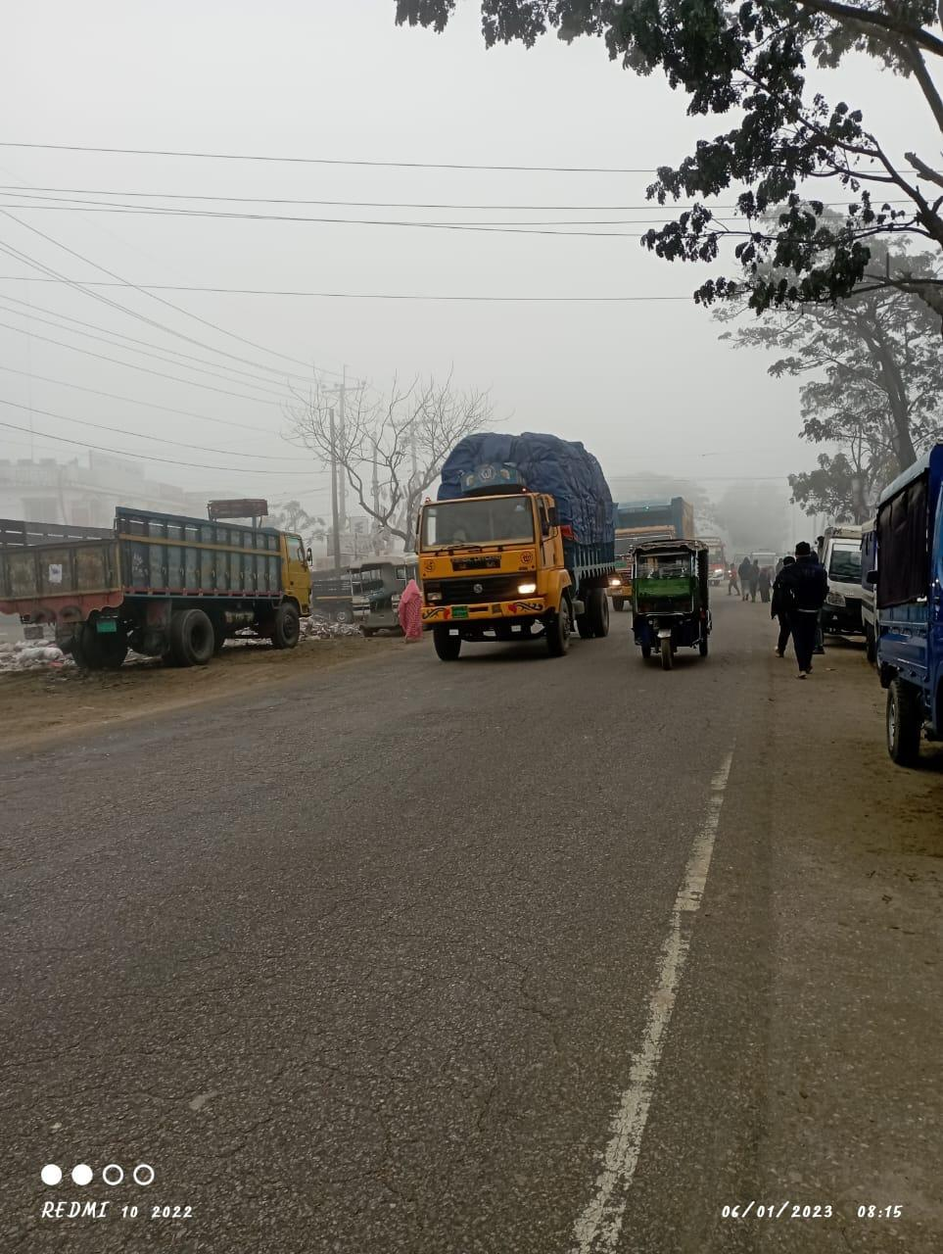Car: (620, 533, 725, 669)
Truck: (6, 490, 318, 661), (404, 426, 611, 662)
